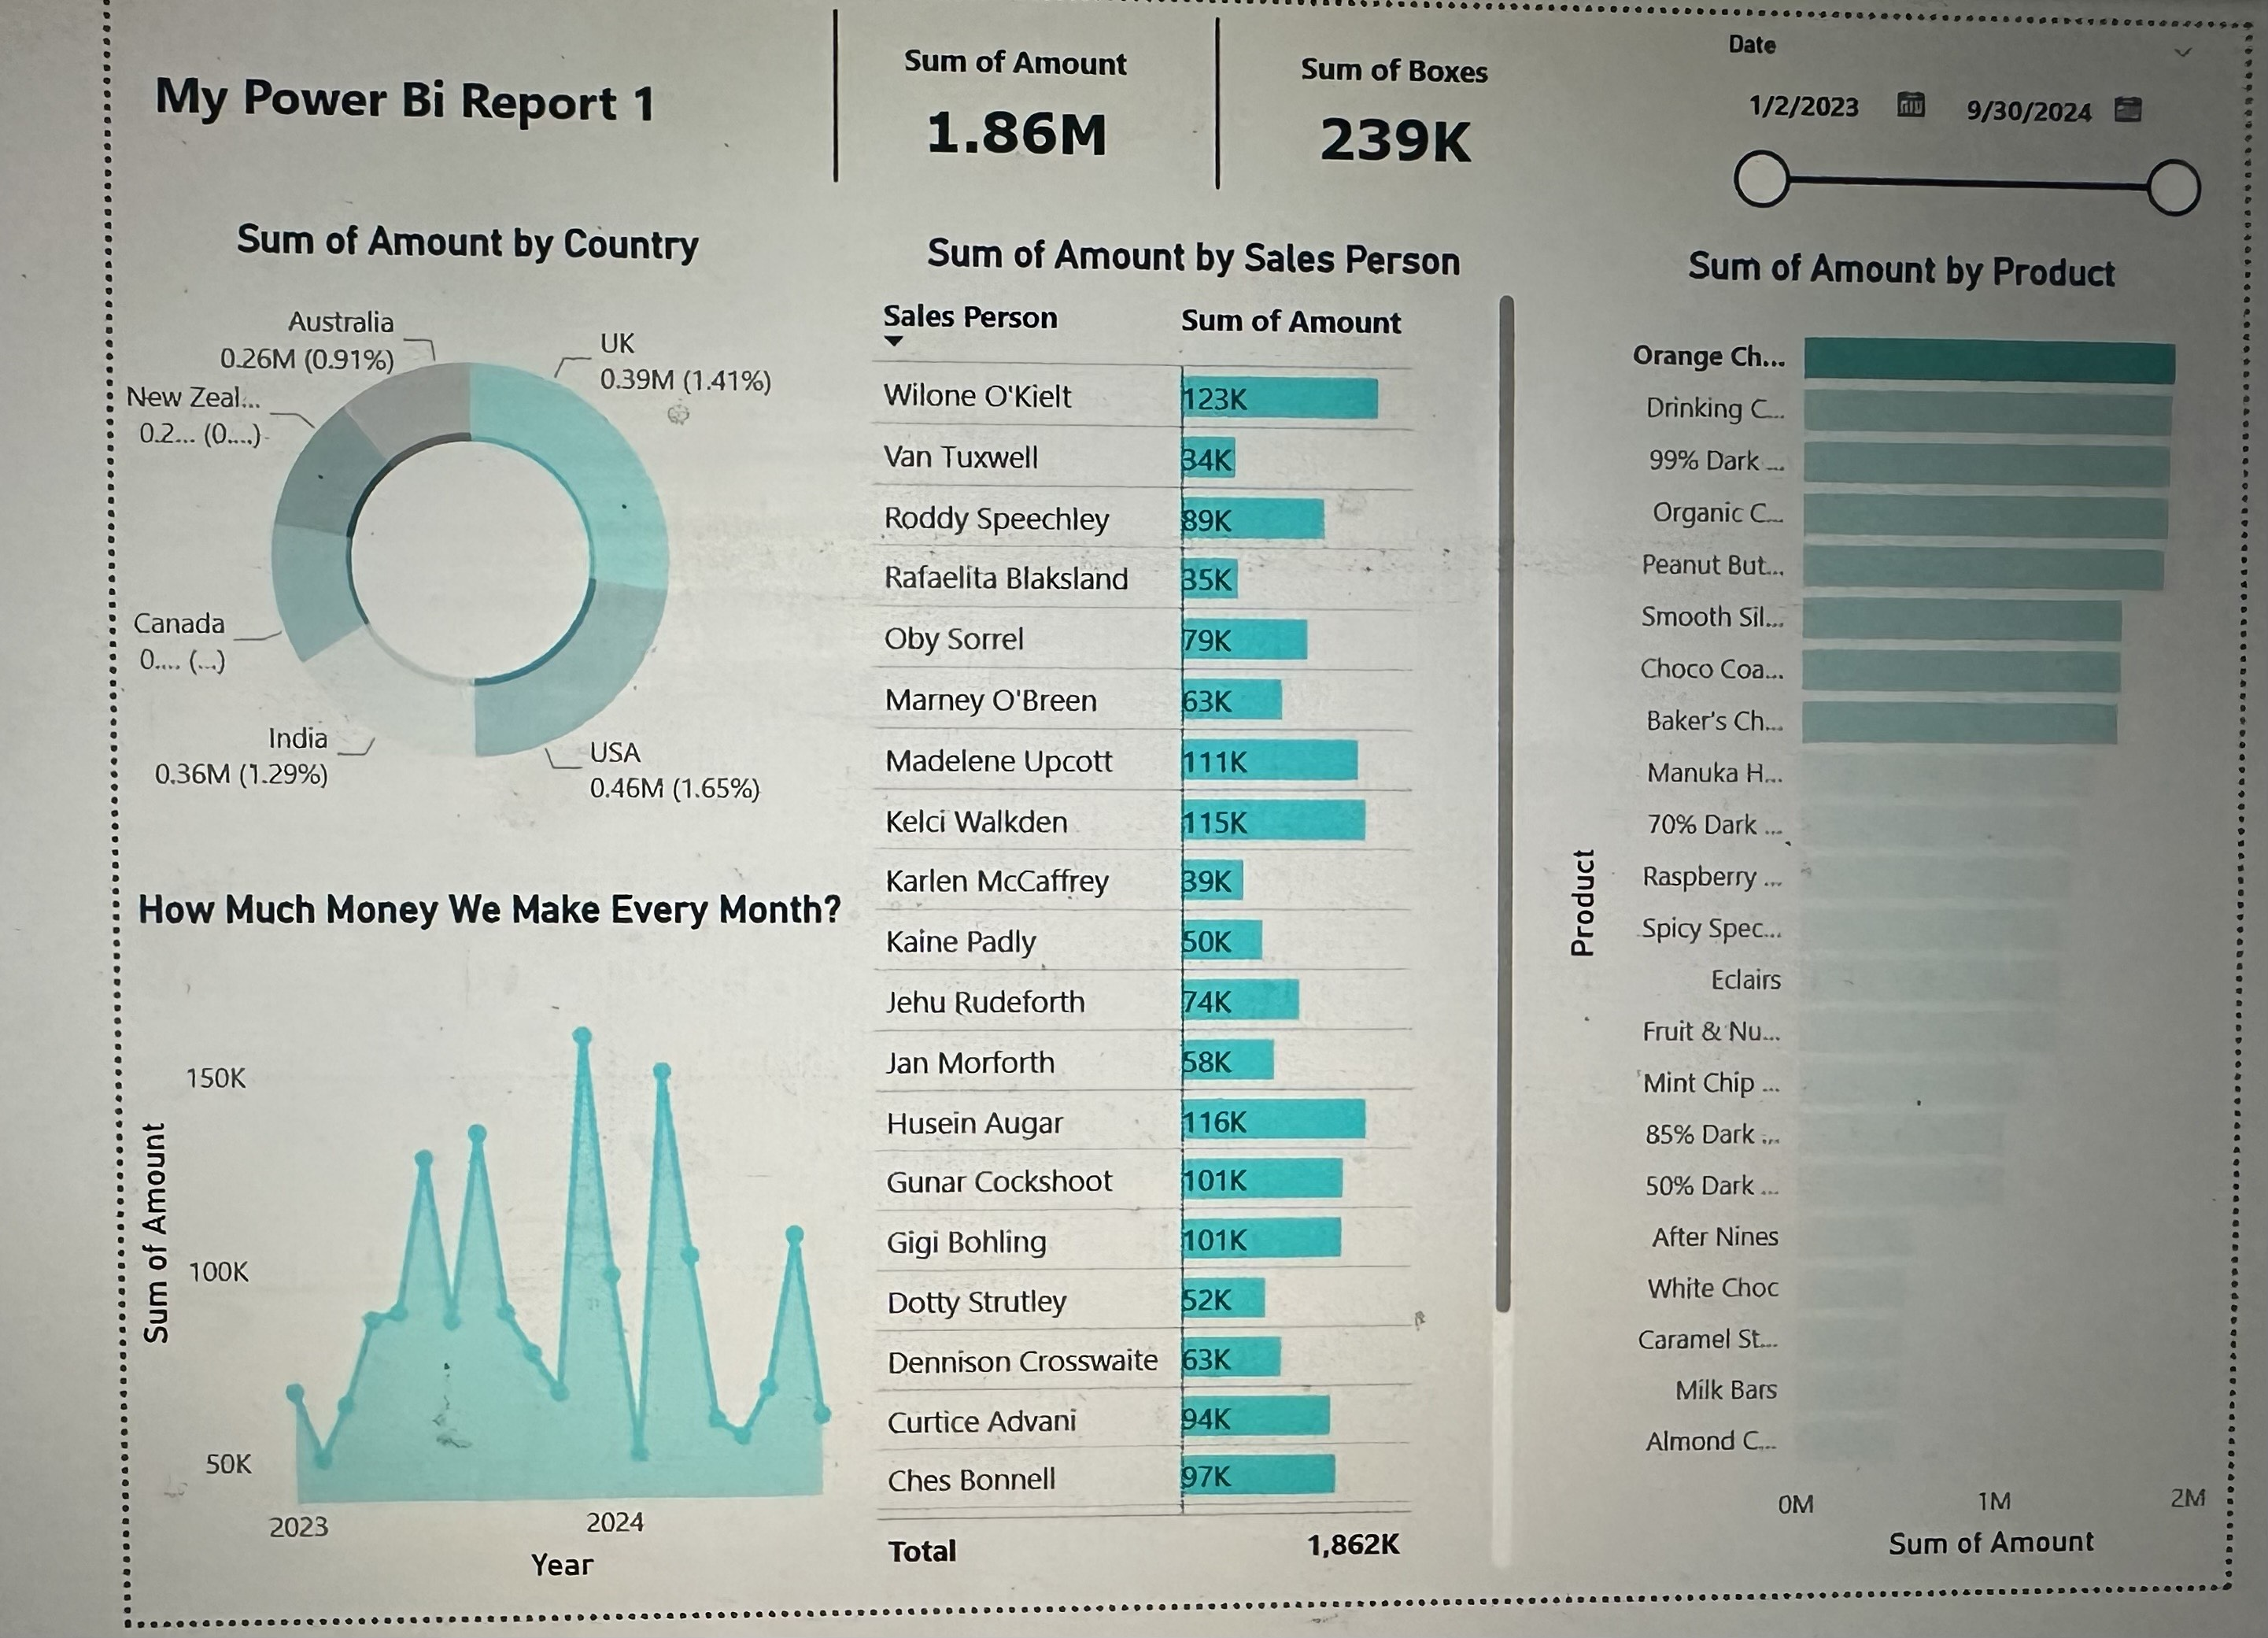

What the dashboard file says about the page in this screenshot:
{"tool":"powerbi","page":{"name":"Report","canvas":[960,720],"ordinal":1},"visuals":[{"type":"lineChart","title":"How Much Money We Make Every Month?","fields":{"Category":["data.Date.Variation.Date Hierarchy.Year","data.Date.Variation.Date Hierarchy.Quarter","data.Date.Variation.Date Hierarchy.Month","data.Date.Variation.Date Hierarchy.Day"],"Y":["data.Amount"]},"box":[0,394.4,324.2,316.1],"z":0},{"type":"donutChart","fields":{"Y":["data.Amount"],"Category":["data.Country"]},"box":[0,100.8,308.2,279.8],"z":1},{"type":"tableEx","title":"Sum of Amount by Sales Person","fields":{"Values":["data.Sales Person","data.Amount"]},"box":[324.2,102.7,301.2,607.9],"z":2},{"type":"barChart","fields":{"Category":["data.Product"],"Y":["data.Amount"]},"box":[639.1,102.2,320.9,607.8],"z":3},{"type":"cardVisual","fields":{"Data":["data.Amount","data.Boxes"]},"box":[308.2,1.4,342.2,86.6],"z":4},{"type":"slicer","fields":{"Values":["data.Date"]},"box":[704.4,1.4,242.8,86.6],"z":5},{"type":"textbox","box":[0,10.8,255.3,90.5],"z":7}]}

Visuals, with their boxes on the page's 960x720 design canvas (x1, y1, x2, y2). These are canvas units, not pixel positions in the 2268x1638 screenshot, which may show the page scaled, cropped or inside an application window:
"How Much Money We Make Every Month?" lineChart: {"left": 0, "top": 394, "right": 324, "bottom": 710}
donutChart - data.Amount x data.Country: {"left": 0, "top": 101, "right": 308, "bottom": 381}
"Sum of Amount by Sales Person" tableEx: {"left": 324, "top": 103, "right": 625, "bottom": 711}
barChart - data.Product x data.Amount: {"left": 639, "top": 102, "right": 960, "bottom": 710}
cardVisual - data.Amount x data.Boxes: {"left": 308, "top": 1, "right": 650, "bottom": 88}
slicer - data.Date: {"left": 704, "top": 1, "right": 947, "bottom": 88}
textbox: {"left": 0, "top": 11, "right": 255, "bottom": 101}
